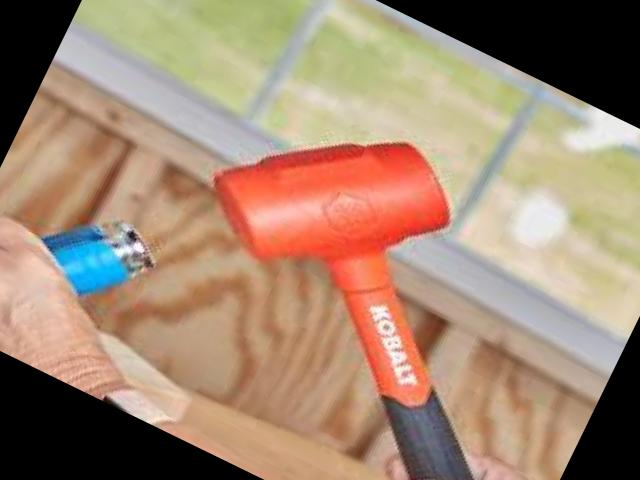hammer: (100, 68, 640, 480)
